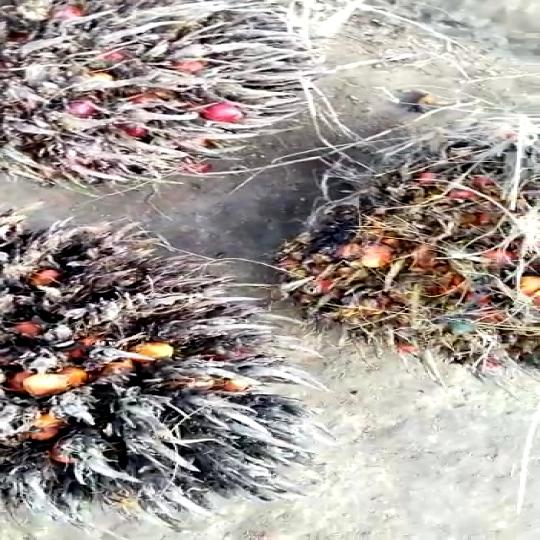terlalu masak: (0, 222, 293, 530), (0, 0, 324, 186)
